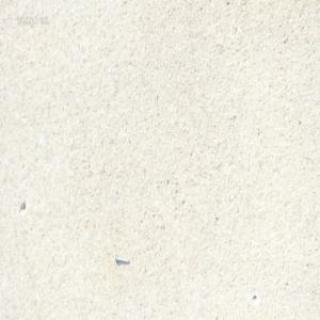Nailtrack_idkeyframe: (113, 253, 129, 264)
